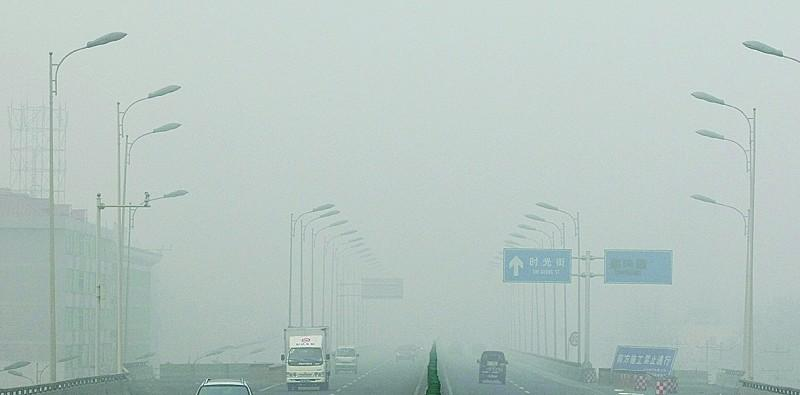bus: (279, 326, 333, 391)
car: (192, 376, 254, 395), (476, 349, 508, 384), (331, 345, 360, 374), (394, 343, 416, 362)
